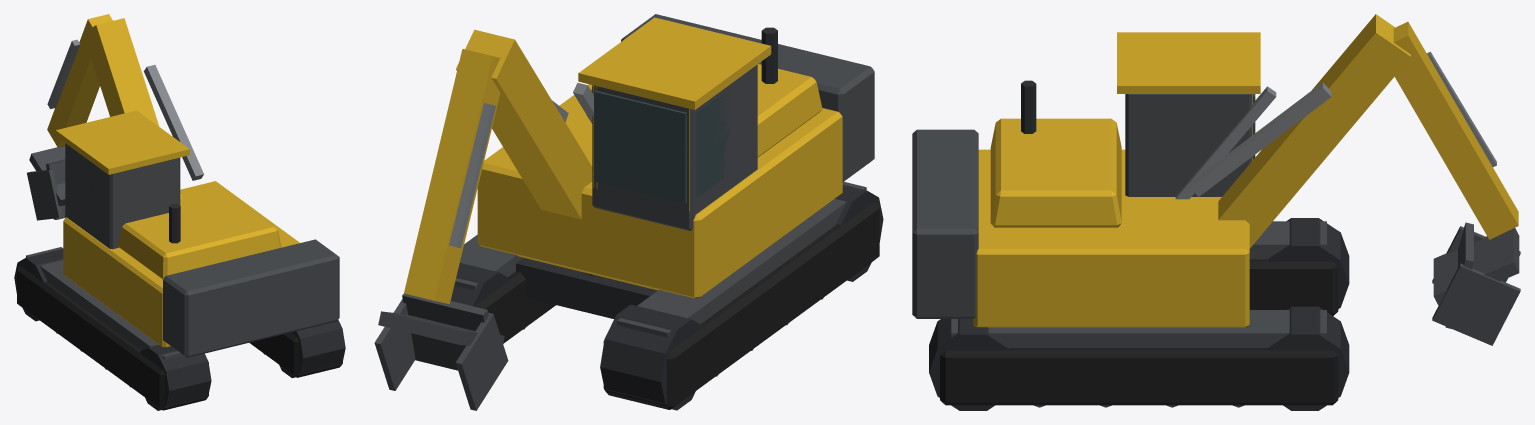
The model's file is excavator.fbx.
3 views of the same model, side by side, from view 1: azimuth 30°, elevation 25°; view 2: azimuth 150°, elevation 25°; view 3: azimuth 270°, elevation 25° (orthographic). The views are drawn at different scales.
Visible parts, largest first — view 1: excavator; view 2: excavator; view 3: excavator.
Part boxes in pixels (x1,y1,x2,y2): excavator: (14,14,345,410); excavator: (374,14,883,410); excavator: (912,14,1520,410).
Size of the model in its own units: 2.6 by 3.4 by 5.5.
